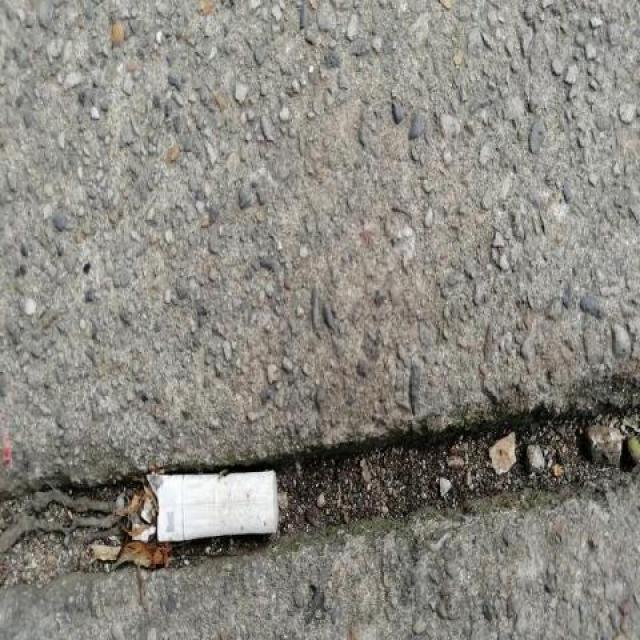non-organic waste: (143, 467, 289, 548)
